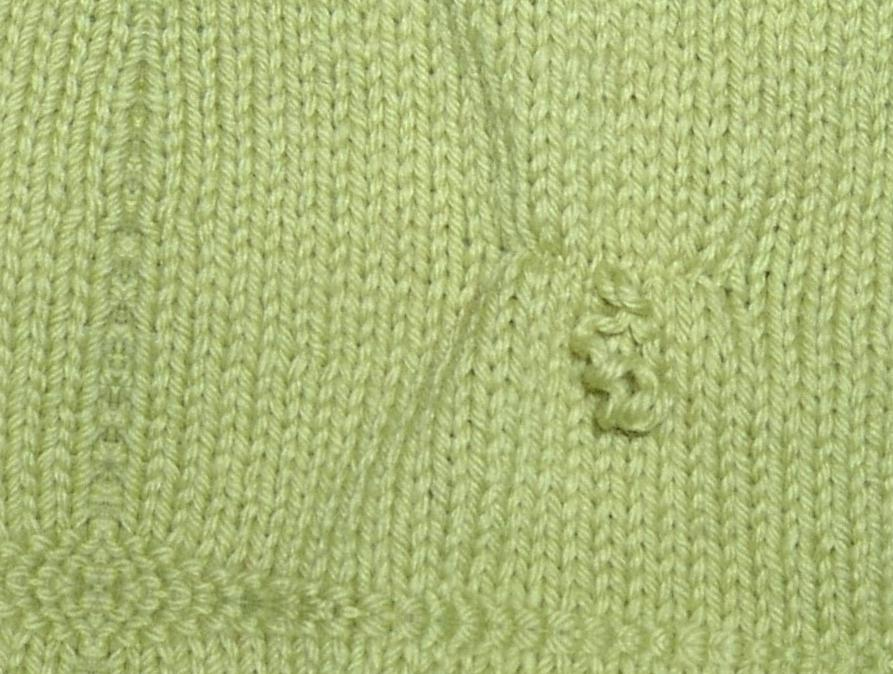knot: (565, 275, 672, 436)
